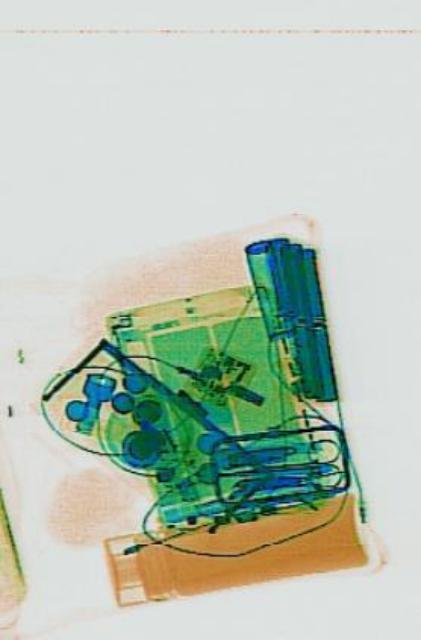Scissors: (229, 434, 339, 498)
